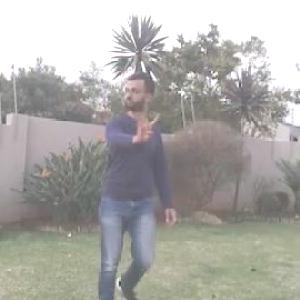takeoff-hand: (131, 108, 161, 143)
